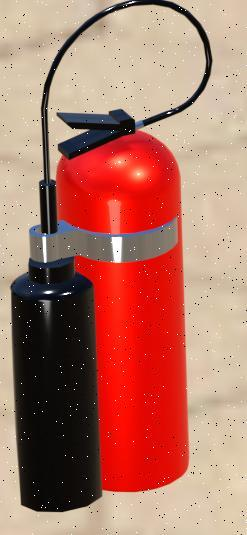Fire Extinguisher: (1, 1, 219, 516)
